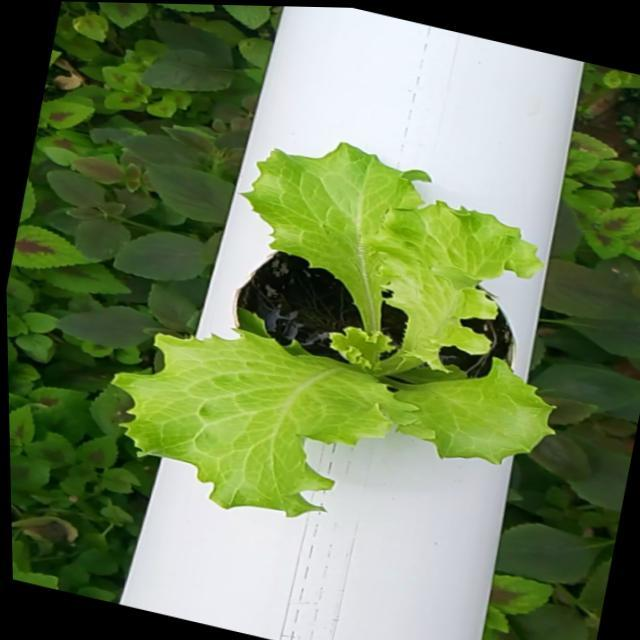Baby: (118, 150, 556, 522)
